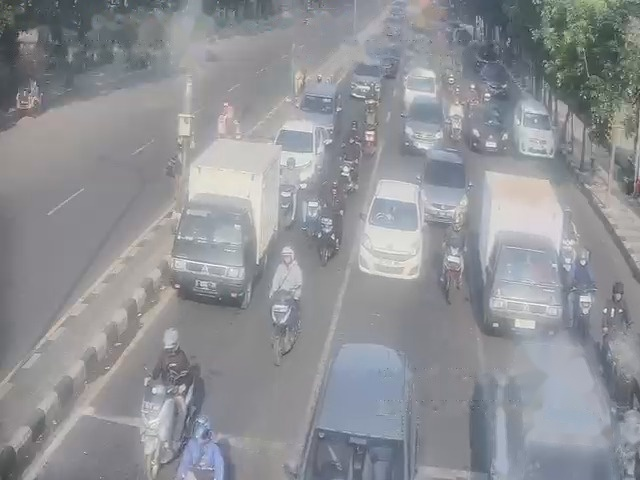Bis: (174, 141, 281, 304)
Mobil: (490, 333, 604, 480), (487, 170, 567, 328), (312, 347, 404, 480), (364, 177, 423, 279), (418, 139, 465, 222), (271, 114, 317, 184), (513, 98, 556, 160), (405, 92, 446, 148), (471, 107, 512, 156), (300, 84, 339, 133), (344, 58, 377, 97), (486, 60, 510, 97)
Motor: (139, 382, 173, 458), (270, 292, 294, 360), (610, 401, 640, 454), (438, 246, 461, 289), (604, 328, 625, 374), (319, 205, 339, 251), (571, 289, 589, 330), (305, 198, 321, 238), (445, 116, 464, 139), (362, 122, 376, 148), (563, 240, 574, 269), (340, 159, 352, 184)
